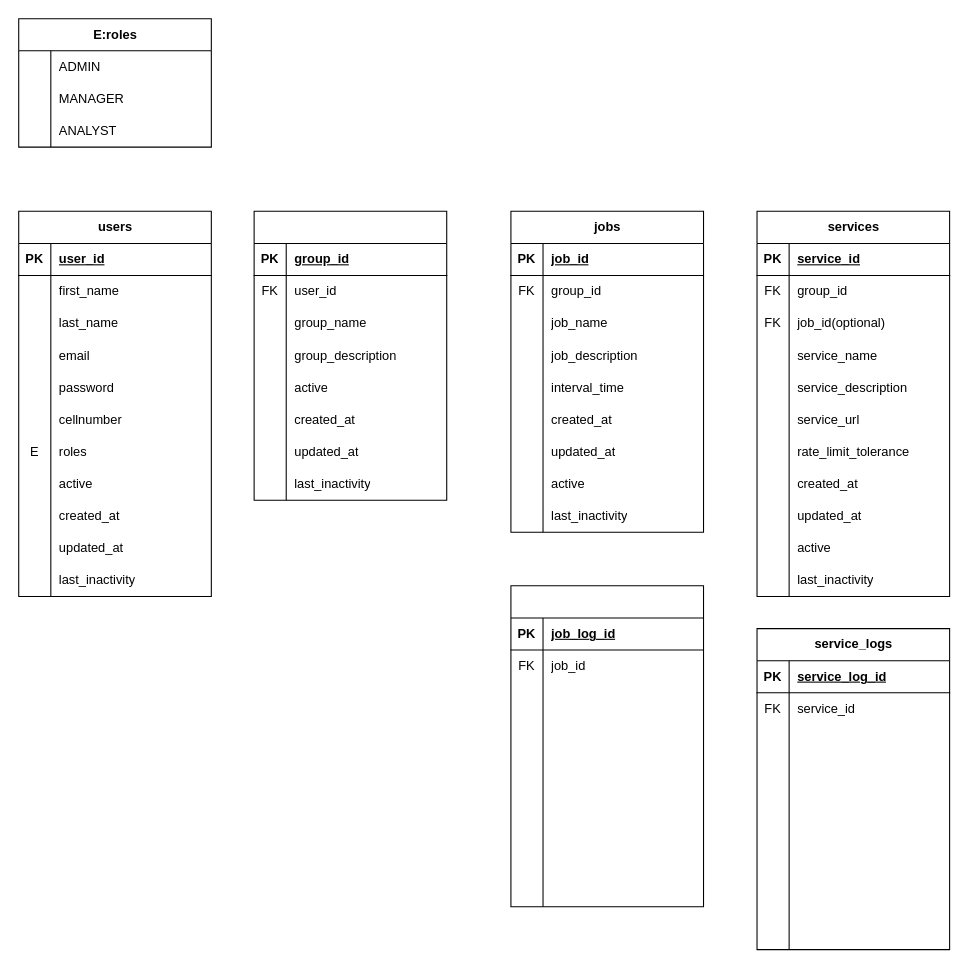
Some shapes in this 968 by 968 pixel diagram are drawn without their labels. The box of each missing label's shape, as (x1, y1, x2, y2) in pixels:
groups: (253, 210, 447, 500)
job_logs: (510, 585, 704, 907)
